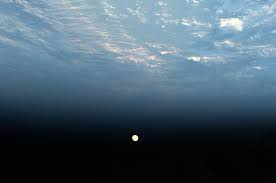moon: (131, 134, 139, 142)
